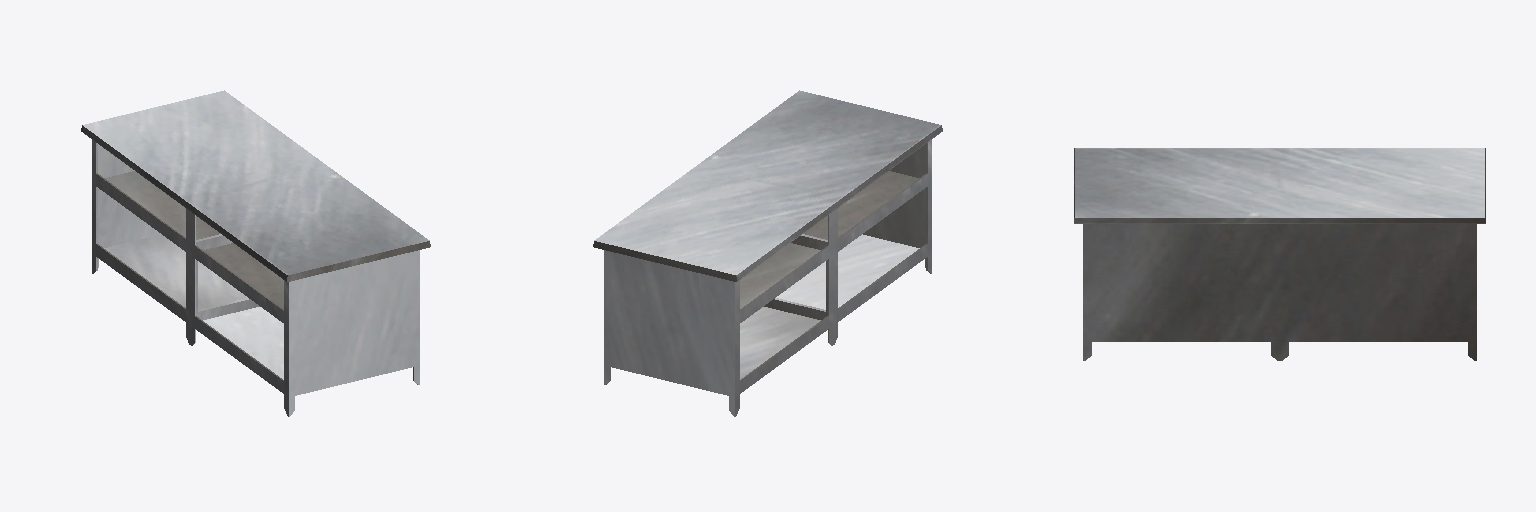
The picture shows the model from 3 angles: view 1: azimuth 30°, elevation 25°; view 2: azimuth 150°, elevation 25°; view 3: azimuth 270°, elevation 25°; orthographic projection.
Visible parts, largest first — view 1: LaundryCounter.obj; view 2: LaundryCounter.obj; view 3: LaundryCounter.obj.
Part boxes in pixels (left/top/right/bottom): LaundryCounter.obj: left=81, top=90, right=430, bottom=416; LaundryCounter.obj: left=593, top=90, right=942, bottom=416; LaundryCounter.obj: left=1074, top=148, right=1485, bottom=360.
Bounding box in the file's own units: 0.7144 × 0.694 × 1.78.
1 materials, 1 textured.